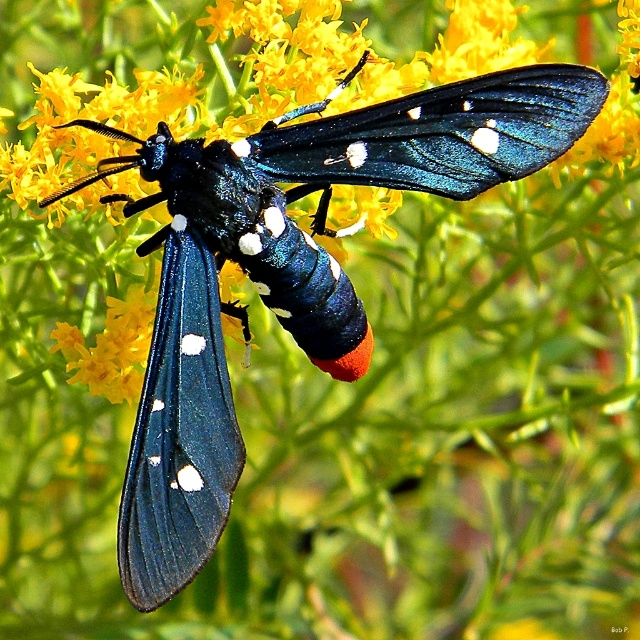Butterfly: (74, 29, 561, 593)
